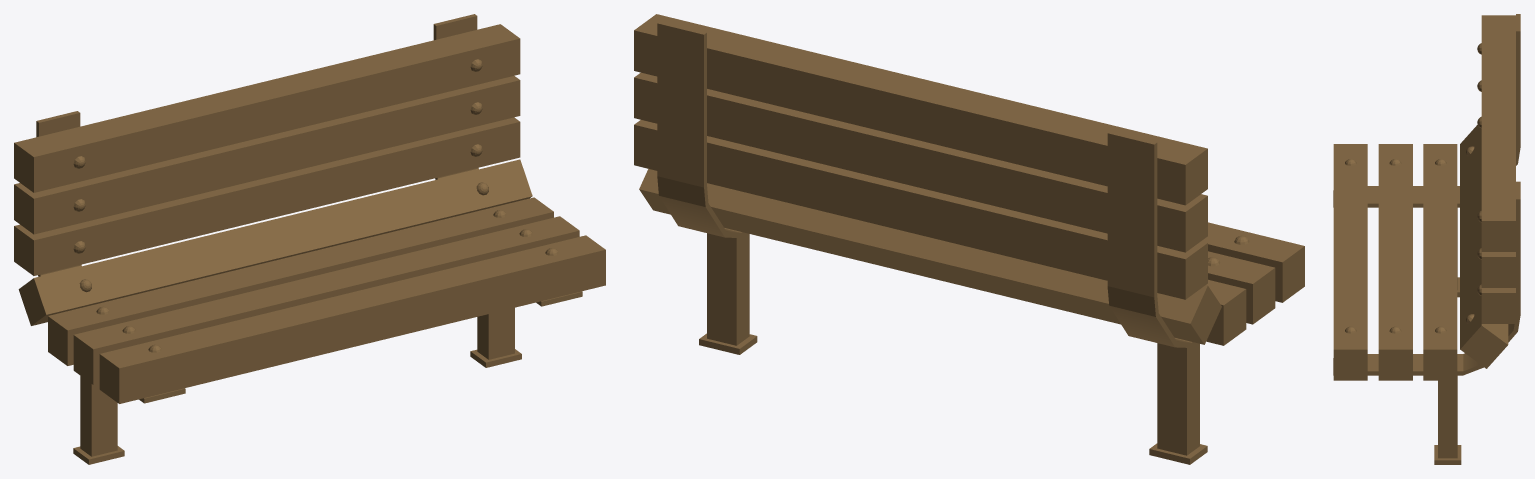
Rendered from park_bench.fbx.
The picture shows the model from 3 angles, left to right: view 1: azimuth 30°, elevation 25°; view 2: azimuth 150°, elevation 25°; view 3: azimuth 270°, elevation 25°; orthographic projection. The views are drawn at different scales.
Visible parts, largest first — view 1: park_bench; view 2: park_bench; view 3: park_bench.
Boxes of the visible parts, box(x1,y1,x2,y2) form: park_bench: box(14, 14, 605, 464); park_bench: box(634, 14, 1304, 464); park_bench: box(1333, 14, 1520, 464).
Bounding box in the file's own units: 14.23 × 8.62 × 5.47.
